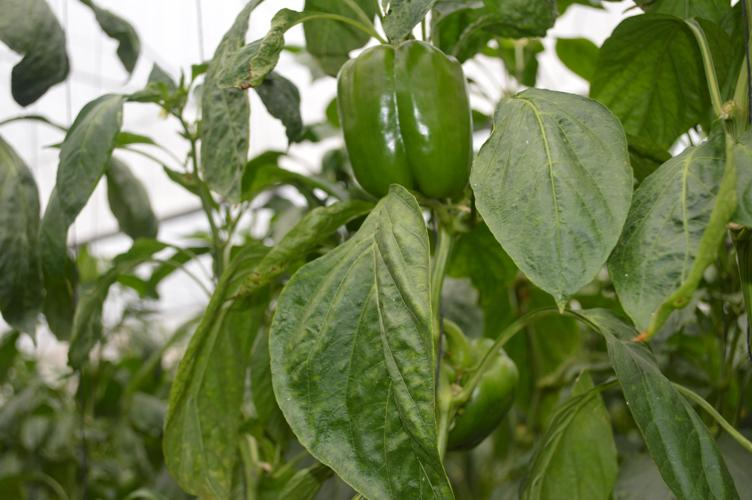BellPepper: (338, 38, 472, 197), (432, 339, 515, 449)
